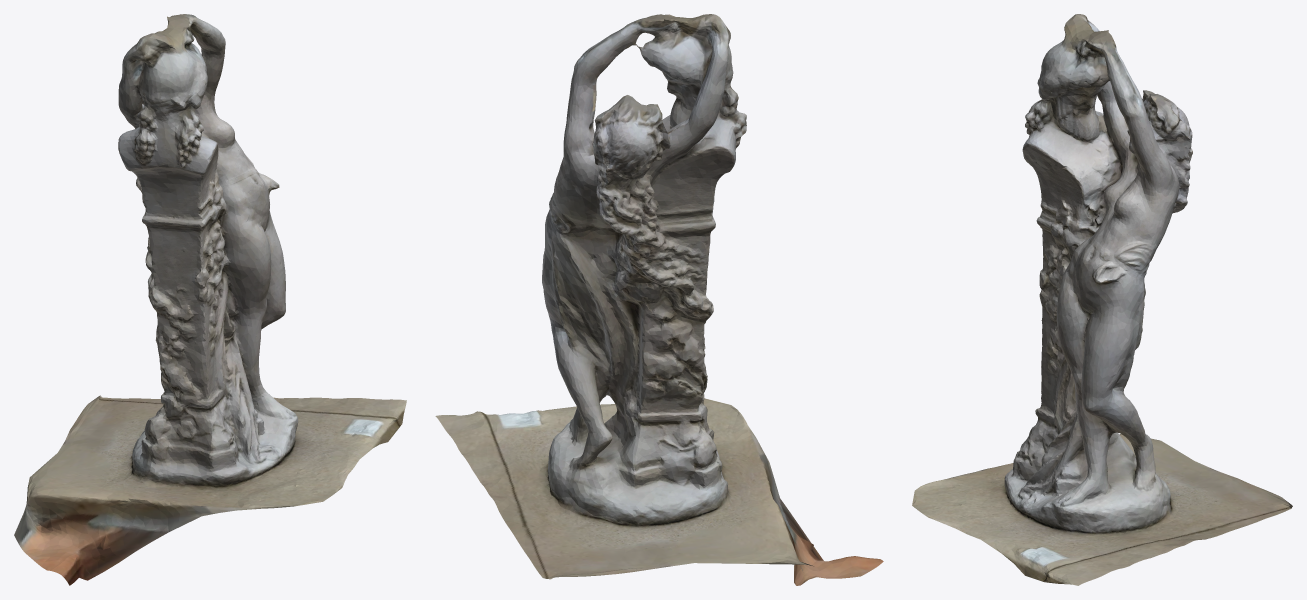
The model's file is preview.glb.
The picture shows the model from 3 angles, left to right: view 1: azimuth 30°, elevation 25°; view 2: azimuth 150°, elevation 25°; view 3: azimuth 270°, elevation 25°; orthographic projection. The views are drawn at different scales.
Size of the model in its own units: 1.3 by 1.62 by 1.07.
Materials: 1 (1 with a texture image).
